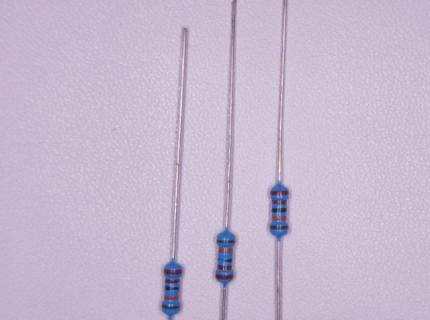Black band: (271, 207, 287, 213), (218, 258, 233, 263), (165, 286, 180, 291)
Brown band: (162, 304, 180, 310), (216, 239, 235, 244), (270, 225, 287, 230)
Orange band: (218, 248, 233, 254), (164, 295, 179, 301), (272, 216, 287, 221)
Red band: (270, 190, 289, 196), (164, 269, 183, 275), (216, 274, 234, 280), (217, 265, 233, 270), (271, 200, 286, 205), (165, 279, 180, 284)
